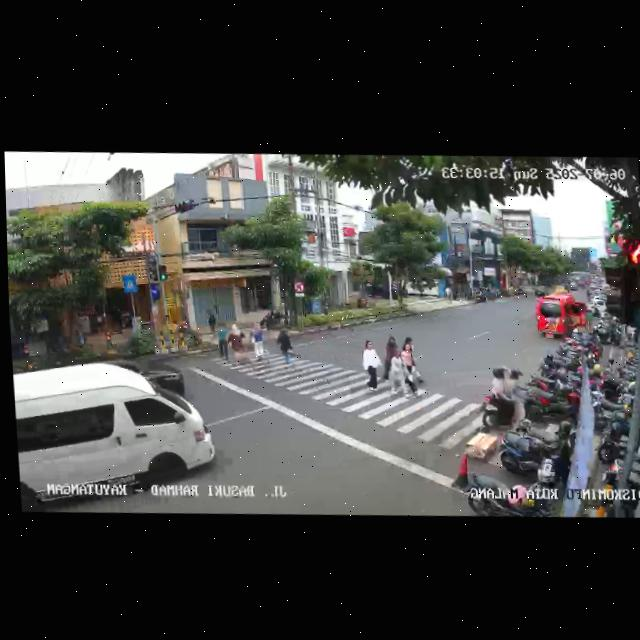car: (12, 351, 213, 518), (534, 292, 591, 341)
motorcycle: (478, 366, 539, 434)
person: (359, 337, 384, 393), (398, 334, 424, 383), (276, 326, 301, 369), (225, 322, 248, 366), (381, 336, 403, 380), (386, 346, 405, 396), (400, 344, 417, 397), (249, 321, 270, 360), (216, 322, 228, 359)
